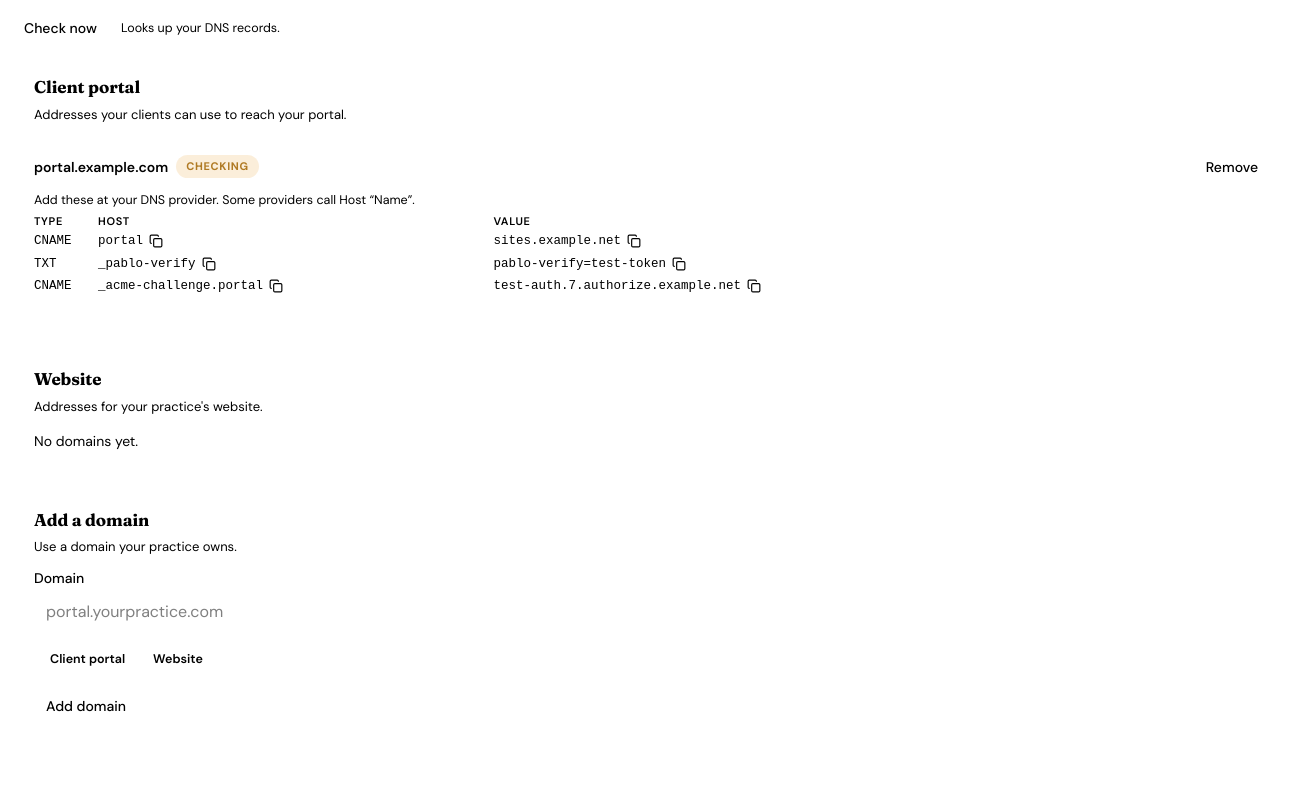
DomainsPage Check now › stops polling after ten minutes
The image size is (1292, 812).
Click the button "Check now".
click(60, 28)  # box [12, 12, 109, 44]
Wait 675000 ms
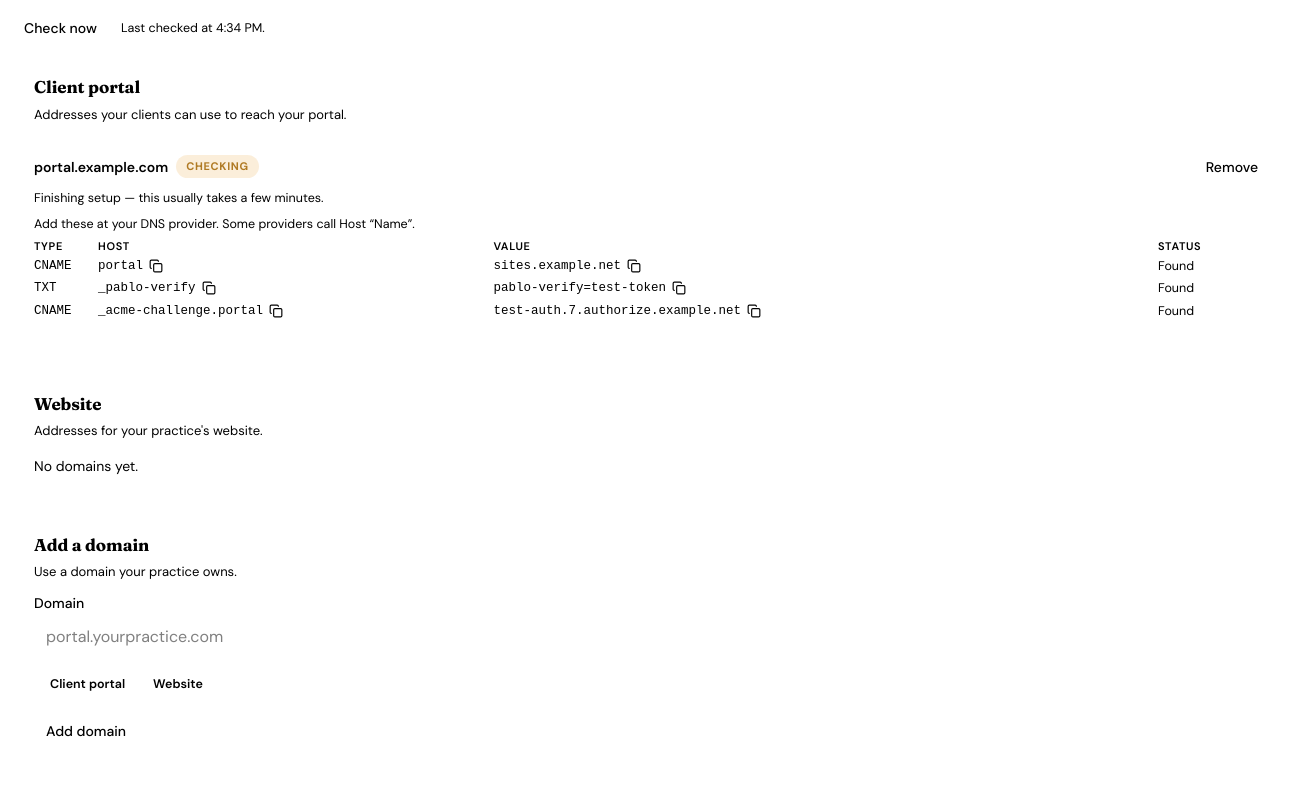
Now the text "Finishing setup — this usually takes a few minutes." is shown, box [34, 190, 324, 206]
